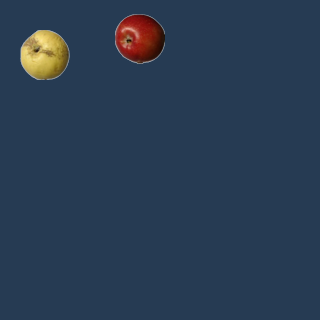Apple Braeburn: (114, 13, 164, 63)
Apple Golden 1: (19, 29, 69, 79)
